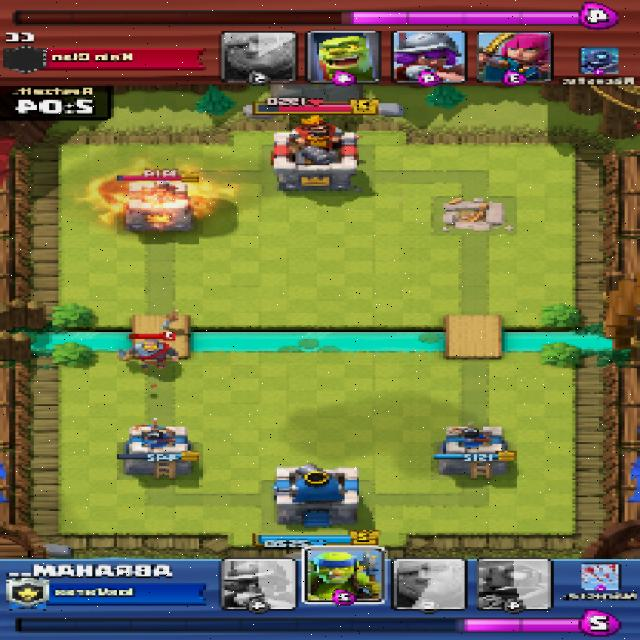Enemy-Knight: (119, 340, 180, 369)
Player-Fireball: (90, 174, 209, 223)
